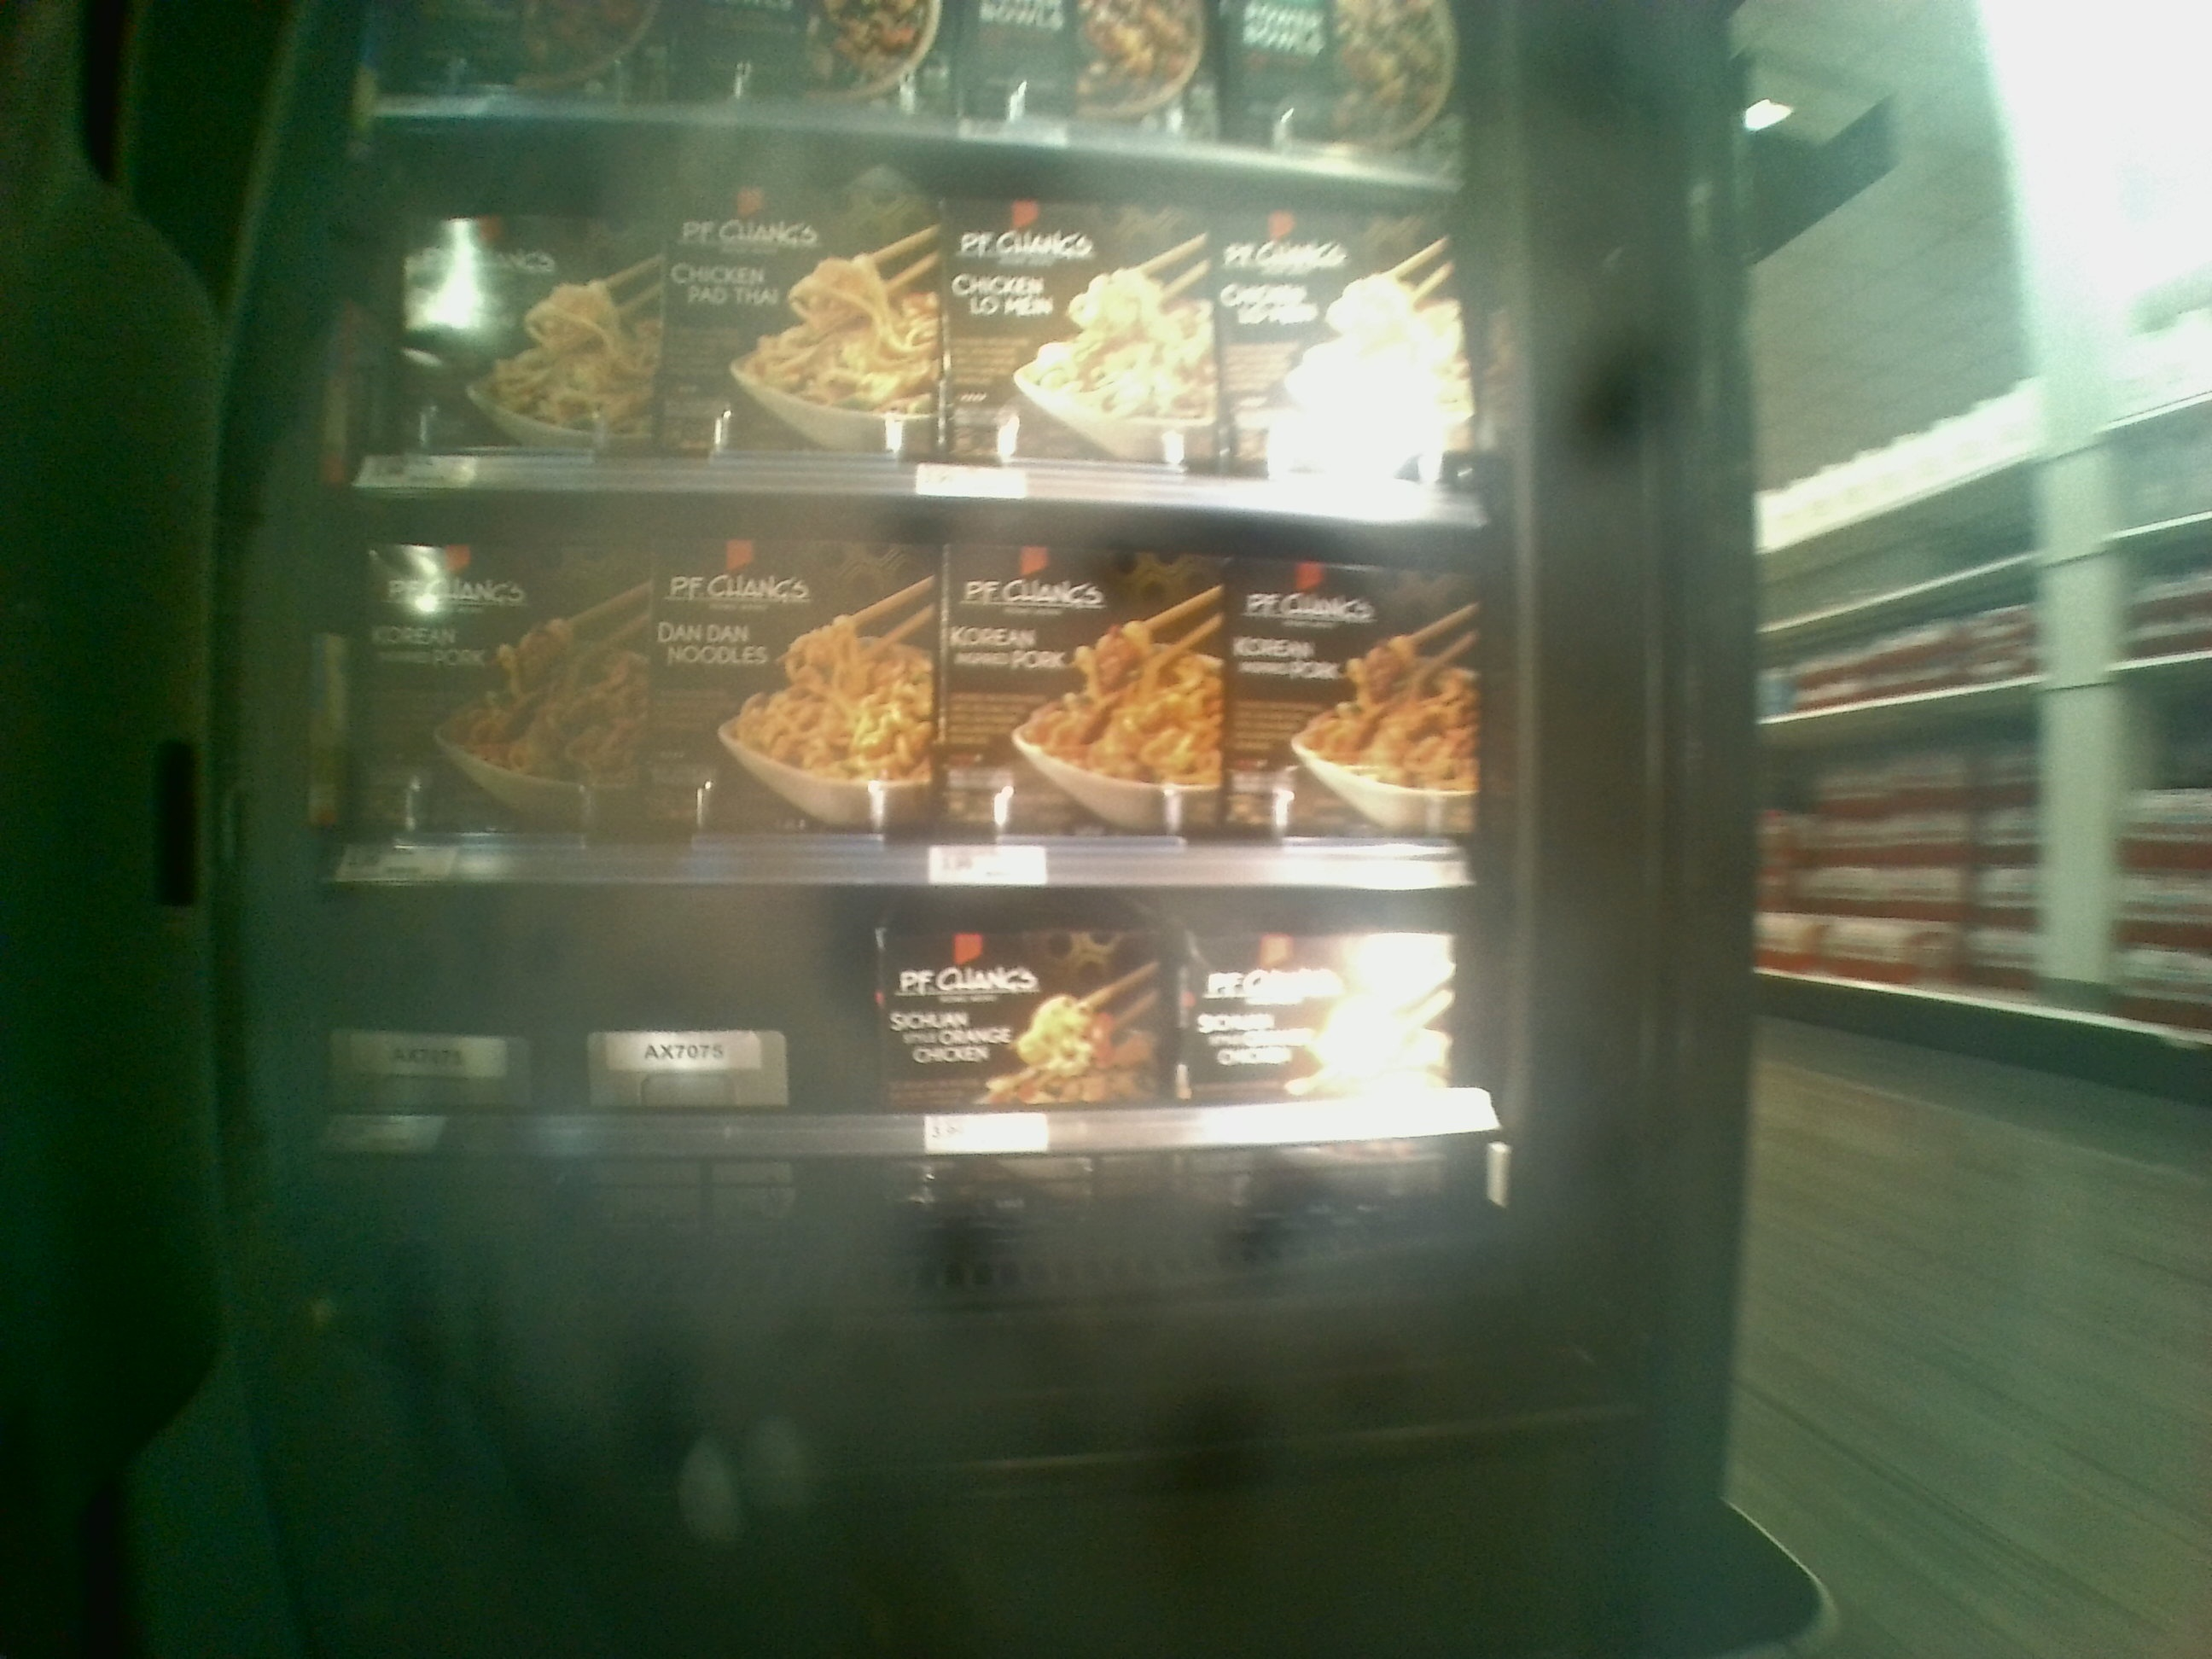shelf: (322, 483, 1467, 903)
